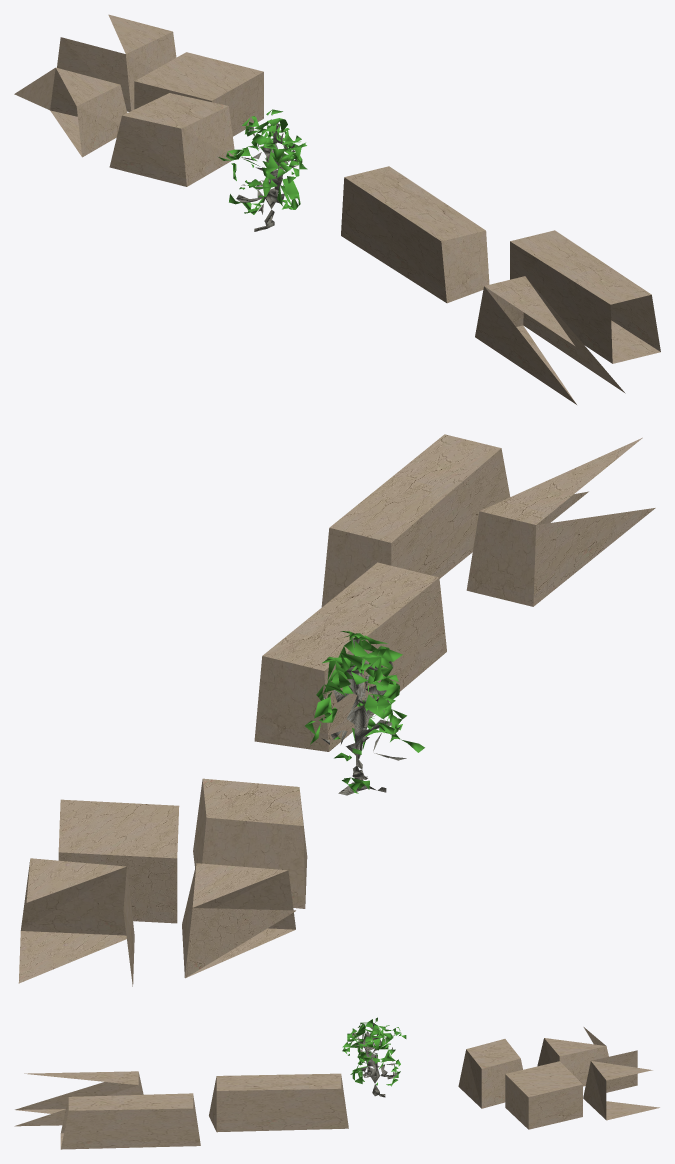
Rendered from tile_2_-2.gltf.
3 renders of one model, top to bottom at view 1: azimuth 30°, elevation 25°; view 2: azimuth 150°, elevation 25°; view 3: azimuth 270°, elevation 25°, orthographic. The views are drawn at different scales.
Visible parts, largest first — view 1: Plane.011@tile_2_-2, Bodhi Tree_Bodhi_front_2_Mat_0.044@tile_2_-2; view 2: Plane.011@tile_2_-2, Bodhi Tree_Bodhi_front_2_Mat_0.044@tile_2_-2; view 3: Plane.011@tile_2_-2, Bodhi Tree_Bodhi_front_2_Mat_0.044@tile_2_-2.
Boxes of the visible parts, bbox=[...] form: Plane.011@tile_2_-2: bbox=[14, 14, 660, 404]; Bodhi Tree_Bodhi_front_2_Mat_0.044@tile_2_-2: bbox=[218, 109, 307, 231]; Plane.011@tile_2_-2: bbox=[18, 434, 655, 986]; Bodhi Tree_Bodhi_front_2_Mat_0.044@tile_2_-2: bbox=[305, 631, 424, 795]; Plane.011@tile_2_-2: bbox=[14, 1027, 659, 1149]; Bodhi Tree_Bodhi_front_2_Mat_0.044@tile_2_-2: bbox=[342, 1017, 406, 1097].
Bounding box in the file's own units: 24.82 × 10.32 × 74.78.
3 materials, 2 textured.
